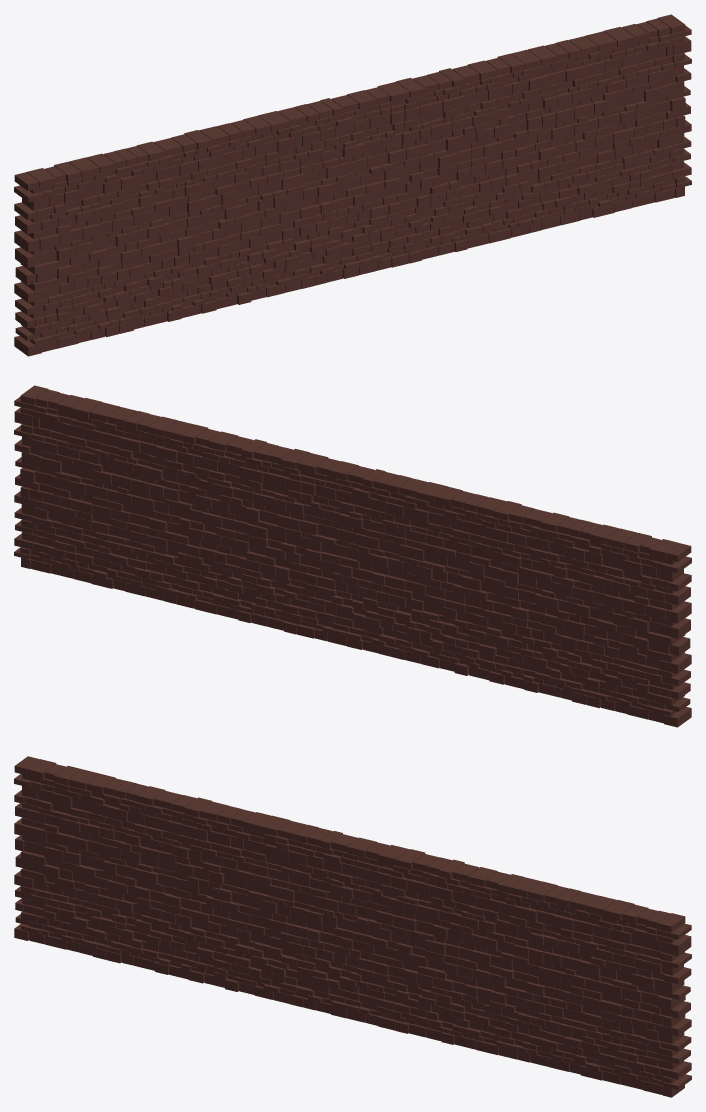
The model's file is BrickWallBig.fbx.
3 views of the same model, one above another, from view 1: azimuth 30°, elevation 25°; view 2: azimuth 150°, elevation 25°; view 3: azimuth 330°, elevation 25° (orthographic).
Visible parts, largest first — view 1: Wall; view 2: Wall; view 3: Wall.
Boxes of the visible parts, left/top/right/bottom form: Wall: left=14, top=14, right=691, bottom=356; Wall: left=14, top=385, right=691, bottom=727; Wall: left=14, top=756, right=691, bottom=1097.
Bounding box in the file's own units: 6056 × 1495 × 232.
